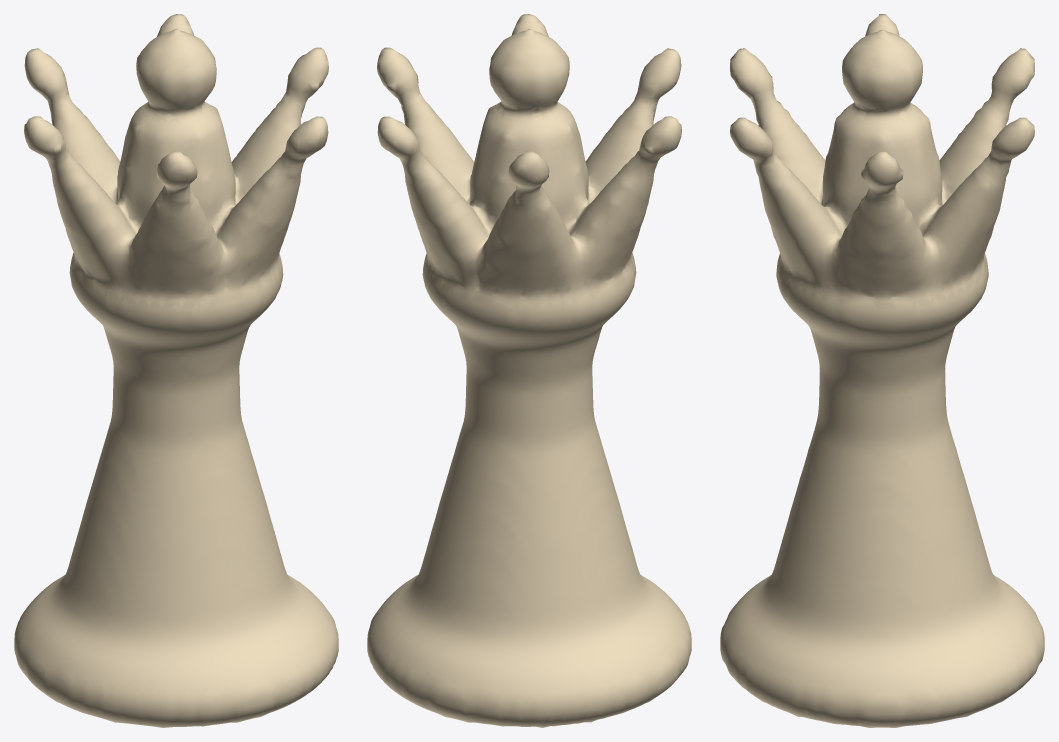
The model's file is KFB_ChessM_queen_light.r1.glb.
The picture shows the model from 3 angles, left to right: view 1: azimuth 30°, elevation 25°; view 2: azimuth 150°, elevation 25°; view 3: azimuth 270°, elevation 25°; orthographic projection.
Parts seen in each view (by area): view 1: KFB_ChessM_queen_light; view 2: KFB_ChessM_queen_light; view 3: KFB_ChessM_queen_light.
Part boxes in pixels (<box>): KFB_ChessM_queen_light: <box>14,14,338,727</box>; KFB_ChessM_queen_light: <box>367,14,691,727</box>; KFB_ChessM_queen_light: <box>720,14,1044,727</box>.
Size of the model in its own units: 2.54 by 5.18 by 2.4.
